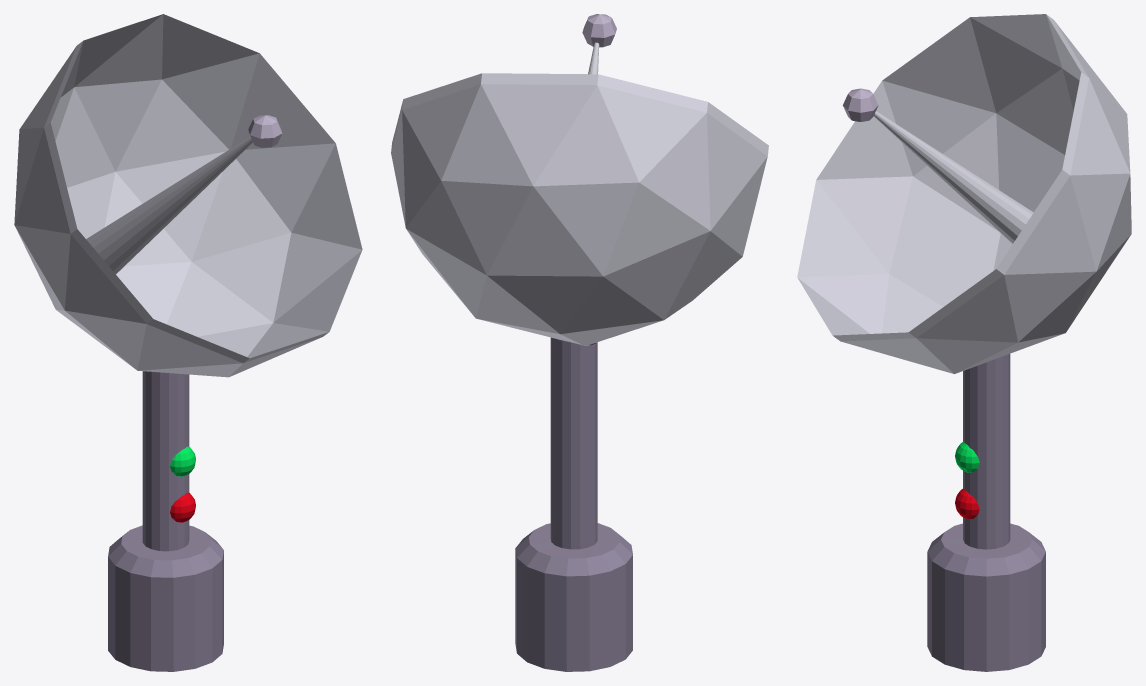
Rendered from Antena.fbx.
3 views of the same model, side by side, from view 1: azimuth 30°, elevation 25°; view 2: azimuth 150°, elevation 25°; view 3: azimuth 270°, elevation 25° (orthographic).
Visible parts, largest first — view 1: Sphere.003; view 2: Sphere.003; view 3: Sphere.003.
Boxes of the visible parts, bbox=[...] form: Sphere.003: bbox=[14, 14, 362, 671]; Sphere.003: bbox=[391, 14, 768, 671]; Sphere.003: bbox=[797, 14, 1131, 671].
Size of the model in its own units: 633 by 1141 by 570.
